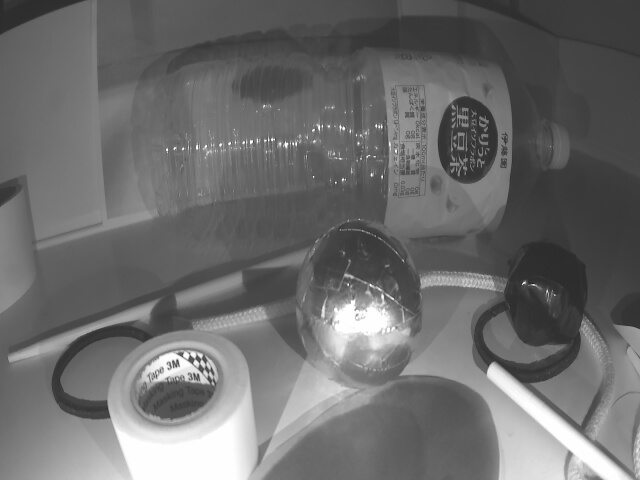Dead: (502, 239, 584, 342)
Live: (293, 222, 418, 382)
